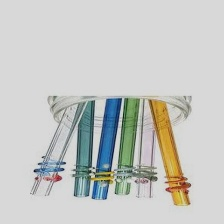drinking_straw: (27, 93, 87, 199), (146, 95, 193, 212), (87, 94, 125, 204)
glass: (41, 90, 195, 139)
